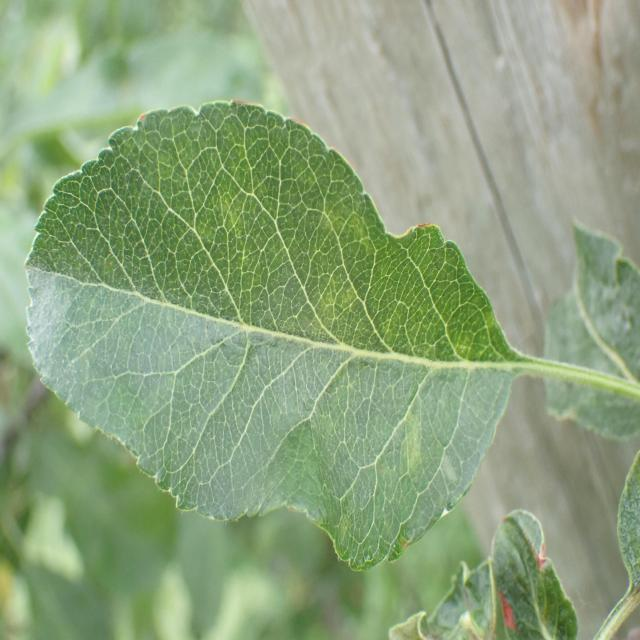scab: (79, 196, 501, 524)
